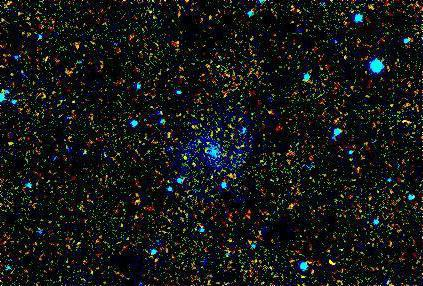star: (215, 157, 245, 187)
